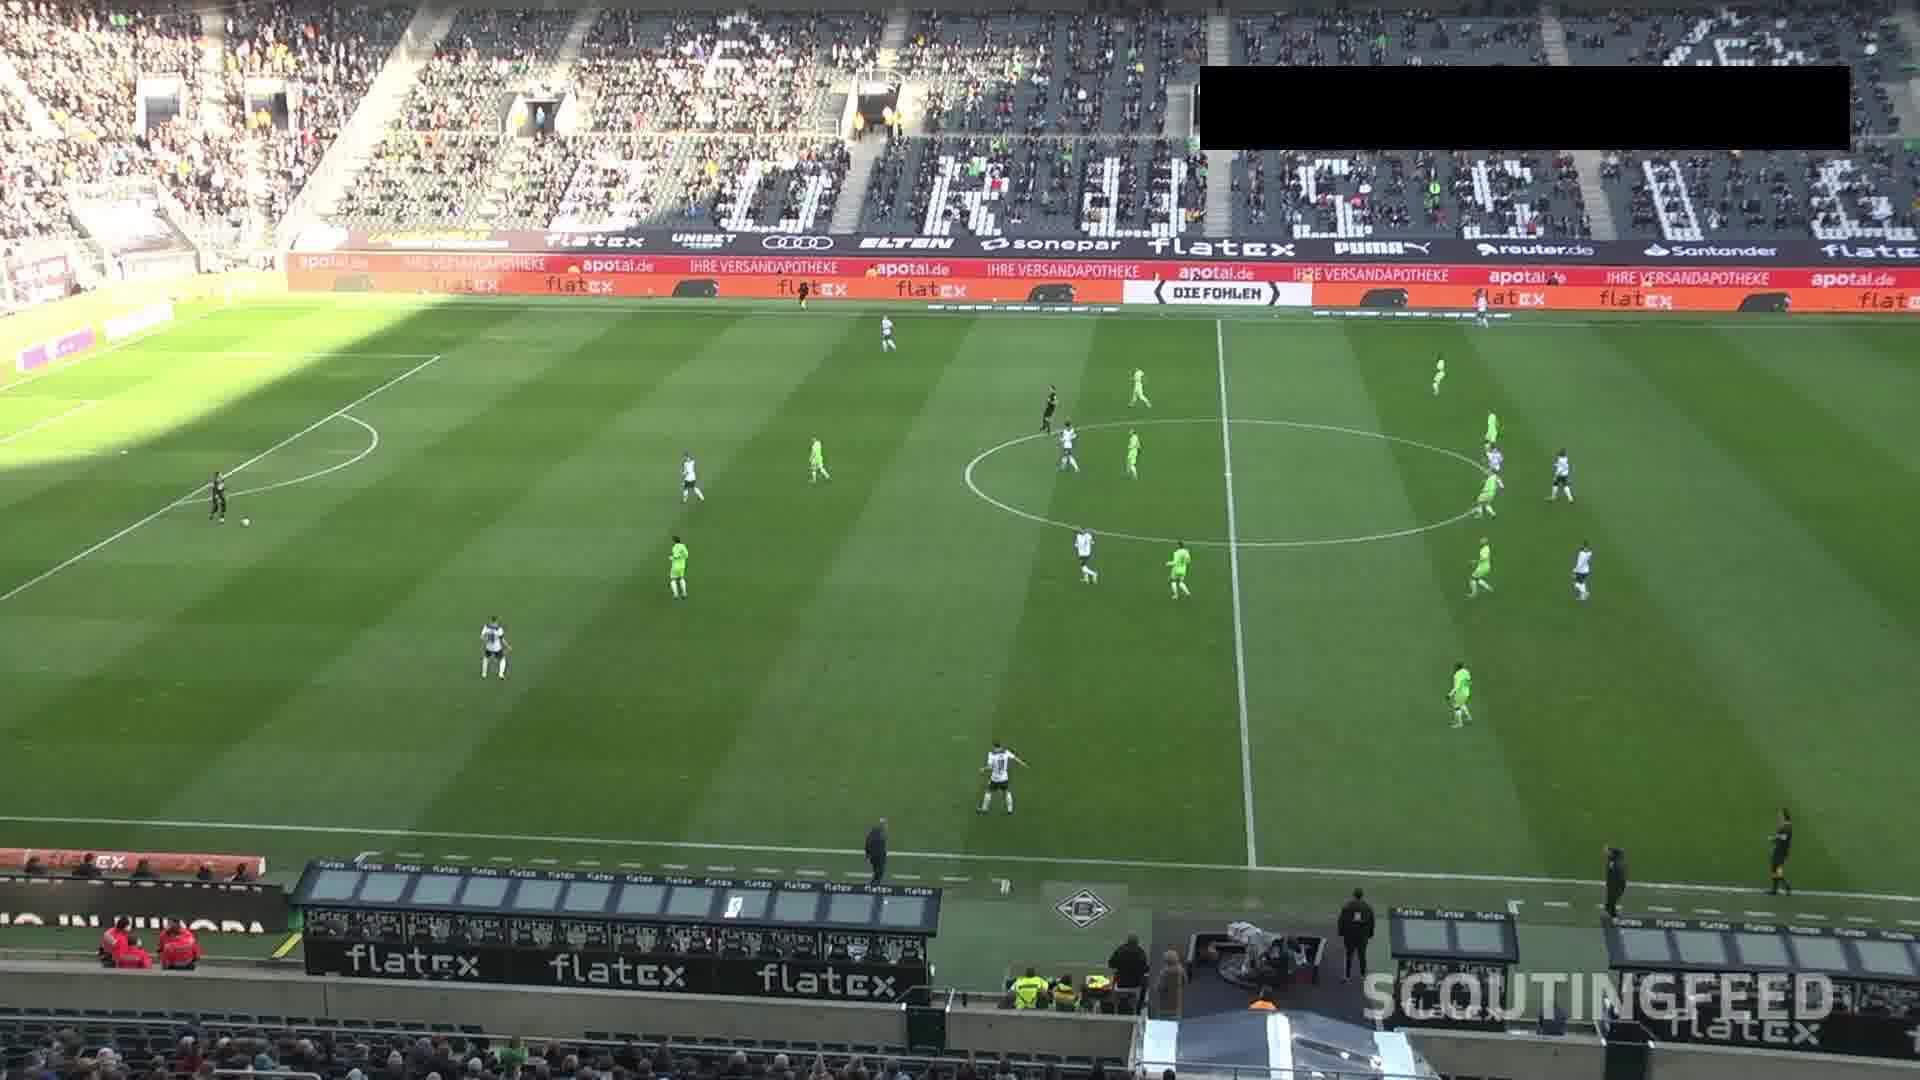football: (239, 516, 252, 527)
